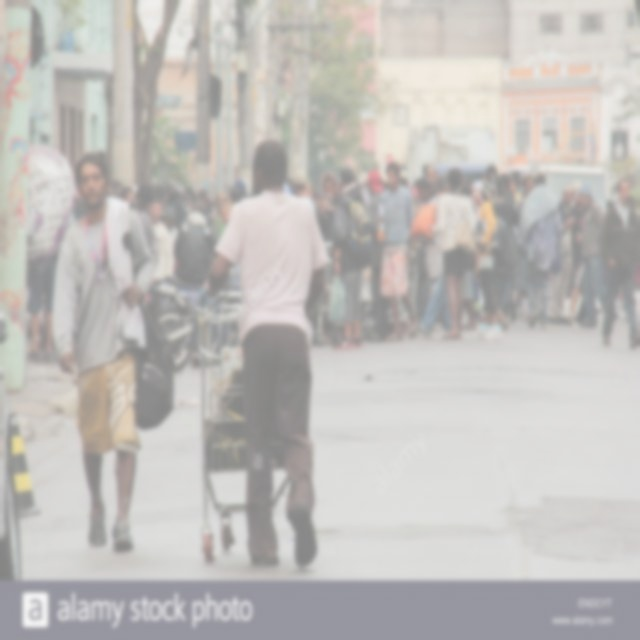pessoa: (203, 136, 332, 571), (46, 146, 180, 554), (429, 167, 478, 340), (374, 158, 419, 344), (596, 173, 640, 354), (521, 169, 564, 328), (416, 174, 457, 338), (332, 166, 366, 350), (576, 182, 618, 328), (468, 179, 501, 329), (560, 191, 594, 324), (173, 202, 214, 311), (364, 168, 389, 342), (492, 180, 520, 332), (550, 184, 578, 326), (26, 256, 58, 360), (147, 198, 176, 285), (132, 181, 156, 248), (288, 168, 316, 220), (137, 183, 206, 203), (319, 169, 340, 234), (158, 202, 180, 252), (407, 176, 432, 216), (471, 253, 484, 320), (213, 192, 228, 242), (480, 164, 498, 203), (498, 172, 516, 208), (508, 171, 524, 211), (108, 179, 134, 201), (423, 163, 441, 194), (416, 178, 436, 205), (306, 183, 324, 208), (230, 180, 250, 200), (465, 180, 482, 203), (400, 171, 417, 193), (358, 172, 369, 206), (218, 197, 232, 223), (72, 194, 84, 216), (522, 175, 536, 191), (429, 178, 439, 194), (284, 174, 290, 194), (381, 178, 387, 190)
